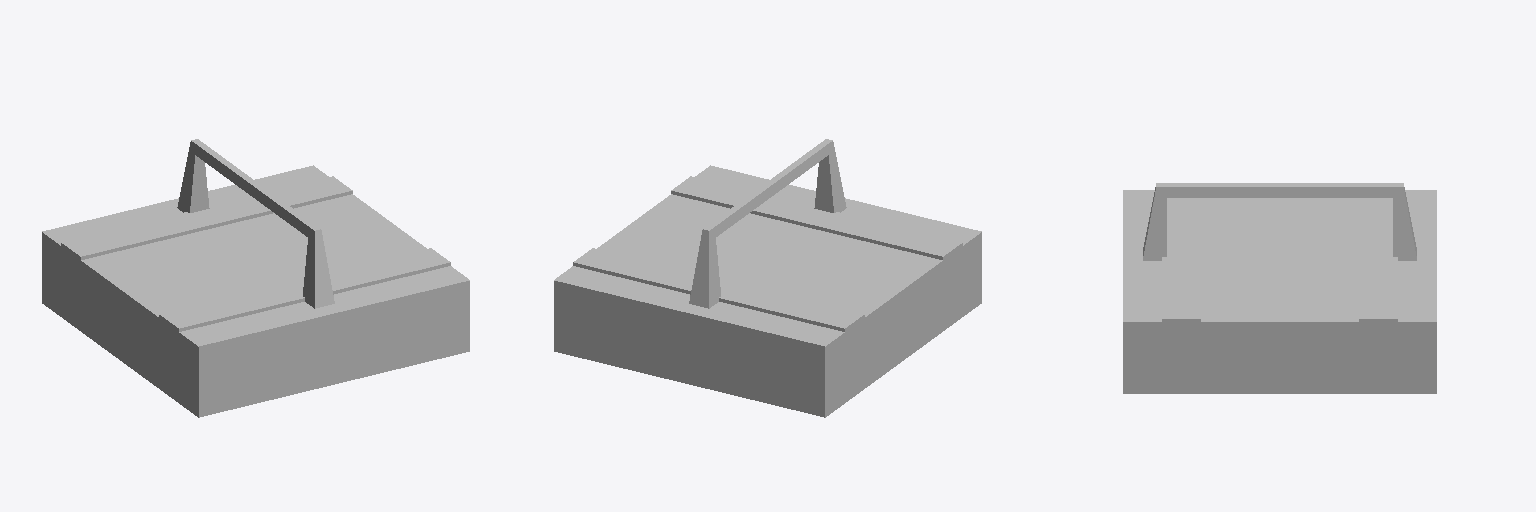
File: track-checkpoint.obj
3 views of the same model, side by side, from view 1: azimuth 30°, elevation 25°; view 2: azimuth 150°, elevation 25°; view 3: azimuth 270°, elevation 25° (orthographic).
Parts seen in each view (by area): view 1: track-checkpoint_Cube.001; view 2: track-checkpoint_Cube.001; view 3: track-checkpoint_Cube.001.
Boxes of the visible parts, box(x1,y1,x2,y2) form: track-checkpoint_Cube.001: box(42, 139, 469, 417); track-checkpoint_Cube.001: box(554, 139, 981, 417); track-checkpoint_Cube.001: box(1123, 183, 1436, 393).
Bounding box in the file's own units: 8 × 4 × 8.